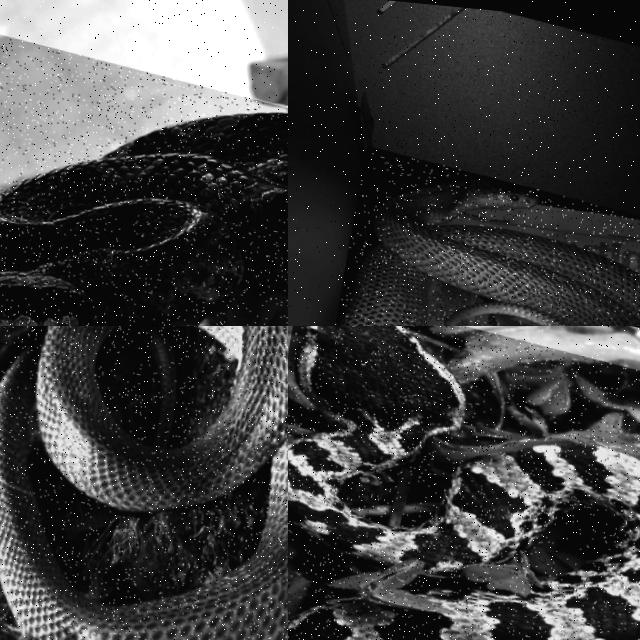Calloselasma rhodostoma: (0, 113, 287, 325)
Naja kaouthia: (340, 178, 639, 325)
Naja siamensis: (0, 326, 287, 639)
Ovophis monticola: (288, 326, 639, 639)
snake: (288, 326, 639, 639), (0, 326, 287, 639), (0, 113, 287, 325), (340, 178, 639, 325)
